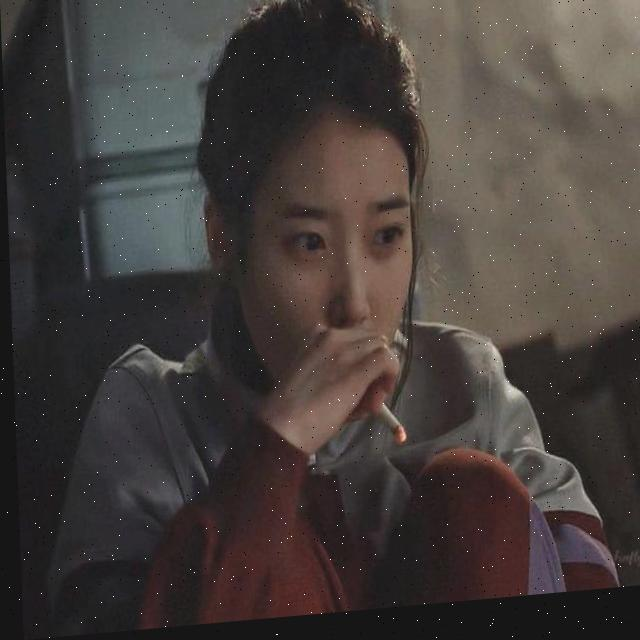cigarette: (375, 410, 403, 451)
